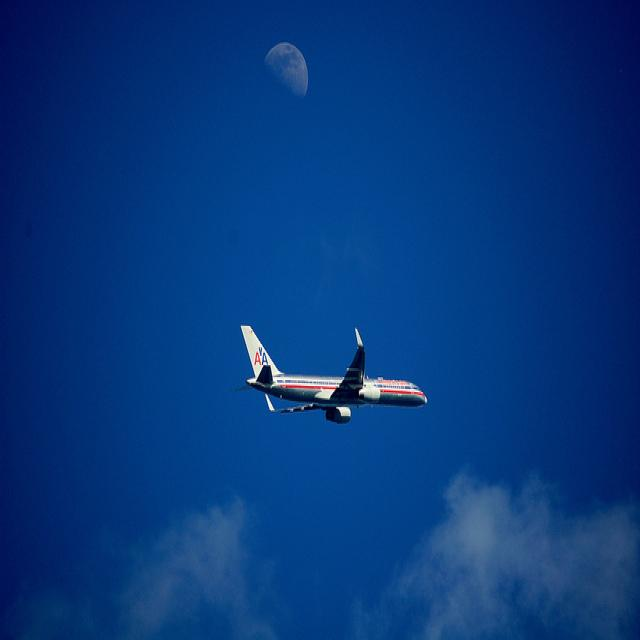airplane: (232, 322, 429, 427)
